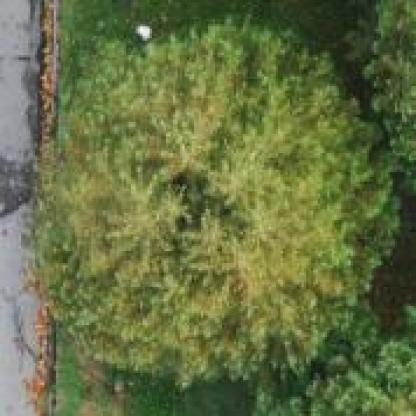Coniferous Tree: (35, 32, 390, 372)
